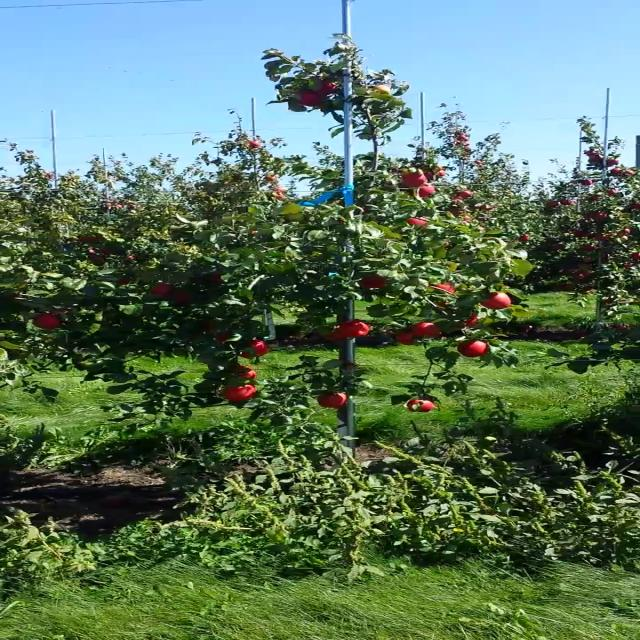apple: (27, 309, 69, 332), (231, 340, 268, 360), (338, 318, 369, 339), (223, 385, 257, 403), (396, 169, 428, 187), (478, 293, 510, 311), (457, 340, 489, 358), (224, 365, 256, 383), (143, 280, 175, 296), (412, 323, 443, 339), (296, 89, 326, 105), (359, 273, 389, 289), (163, 291, 193, 307), (318, 392, 348, 408), (314, 77, 340, 95), (428, 281, 457, 297), (212, 329, 242, 344), (322, 326, 348, 343), (393, 330, 419, 346), (407, 399, 435, 413), (454, 314, 478, 328), (408, 185, 435, 197), (405, 217, 432, 229), (369, 83, 392, 95), (99, 243, 121, 255), (210, 270, 227, 282), (246, 141, 264, 150), (456, 190, 474, 198), (574, 229, 592, 237), (92, 231, 105, 241), (450, 208, 467, 215), (93, 256, 105, 265), (267, 174, 280, 182), (582, 256, 595, 263), (458, 134, 469, 142), (607, 188, 618, 196), (595, 232, 606, 240), (632, 251, 640, 262), (561, 198, 571, 206), (80, 234, 90, 242), (578, 264, 590, 270), (563, 284, 575, 290), (552, 243, 564, 249), (612, 168, 622, 175), (547, 200, 557, 207), (584, 243, 594, 250), (621, 228, 631, 235), (582, 179, 593, 185), (452, 200, 465, 205), (632, 203, 640, 211), (274, 193, 284, 199), (520, 234, 530, 240), (609, 159, 618, 165), (593, 156, 602, 162), (591, 194, 600, 200), (484, 205, 494, 210), (586, 151, 598, 155), (460, 216, 472, 220), (575, 272, 583, 278), (438, 170, 447, 175), (595, 213, 604, 218), (273, 187, 284, 191), (588, 211, 595, 217), (625, 171, 633, 176), (460, 155, 468, 160), (580, 290, 590, 294), (623, 263, 631, 268), (434, 166, 443, 170), (463, 148, 472, 152), (610, 232, 619, 236), (621, 236, 628, 241), (462, 142, 470, 146), (223, 181, 230, 185), (88, 250, 96, 253), (474, 160, 480, 163)
